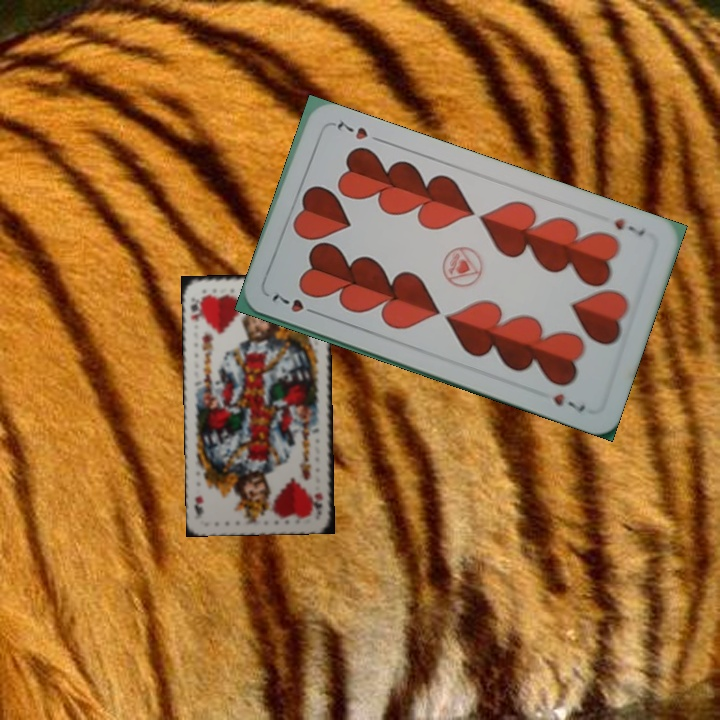H7: (267, 290, 322, 318), (610, 214, 648, 239)
HK: (186, 293, 205, 325), (309, 489, 325, 513)
